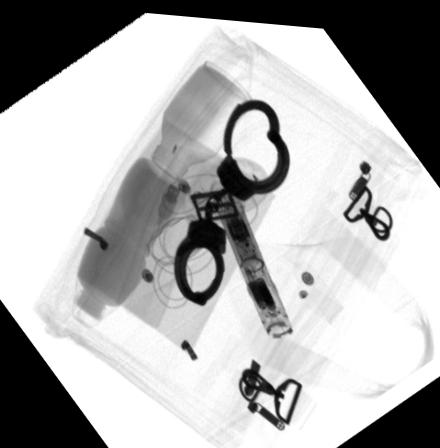Baton: (206, 180, 294, 333)
HandCuffs: (171, 92, 290, 304)
